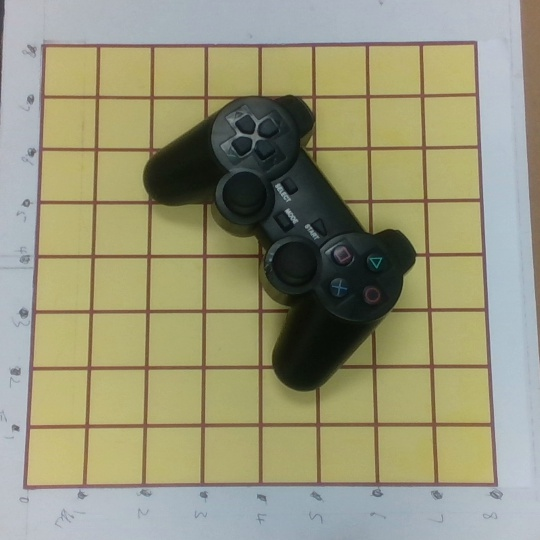remote: (145, 95, 418, 392)
